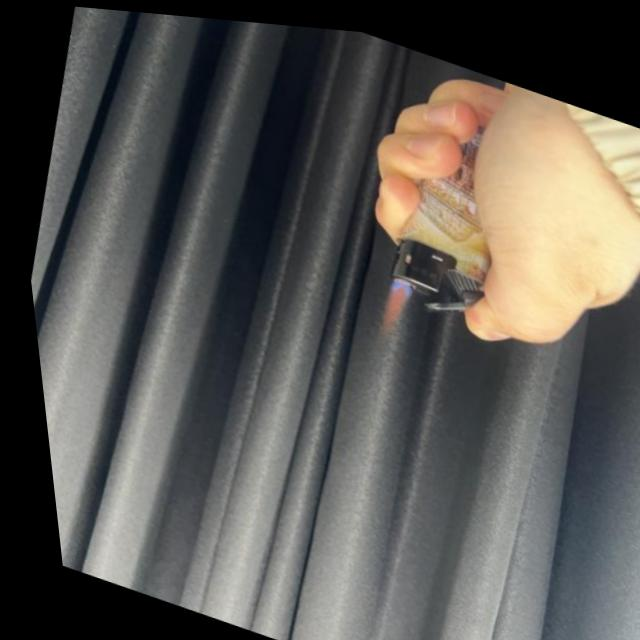Fire: (365, 269, 411, 339)
